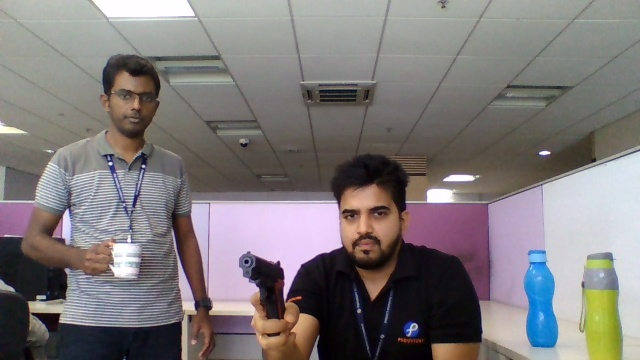gun: (241, 253, 291, 315)
